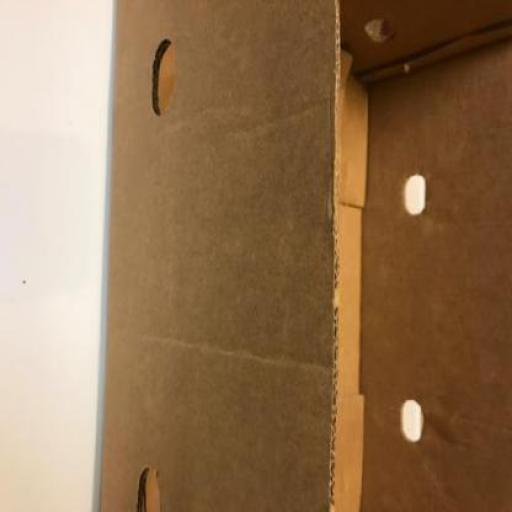cardboard: (101, 0, 512, 511)
